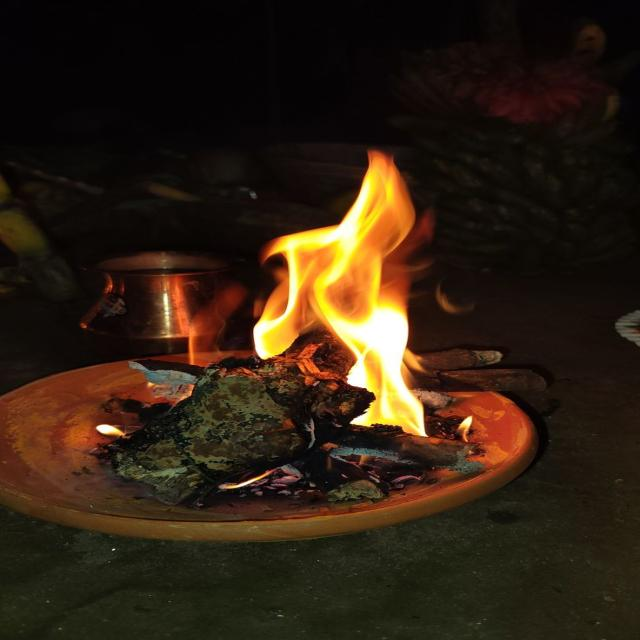fire: (251, 147, 431, 439)
